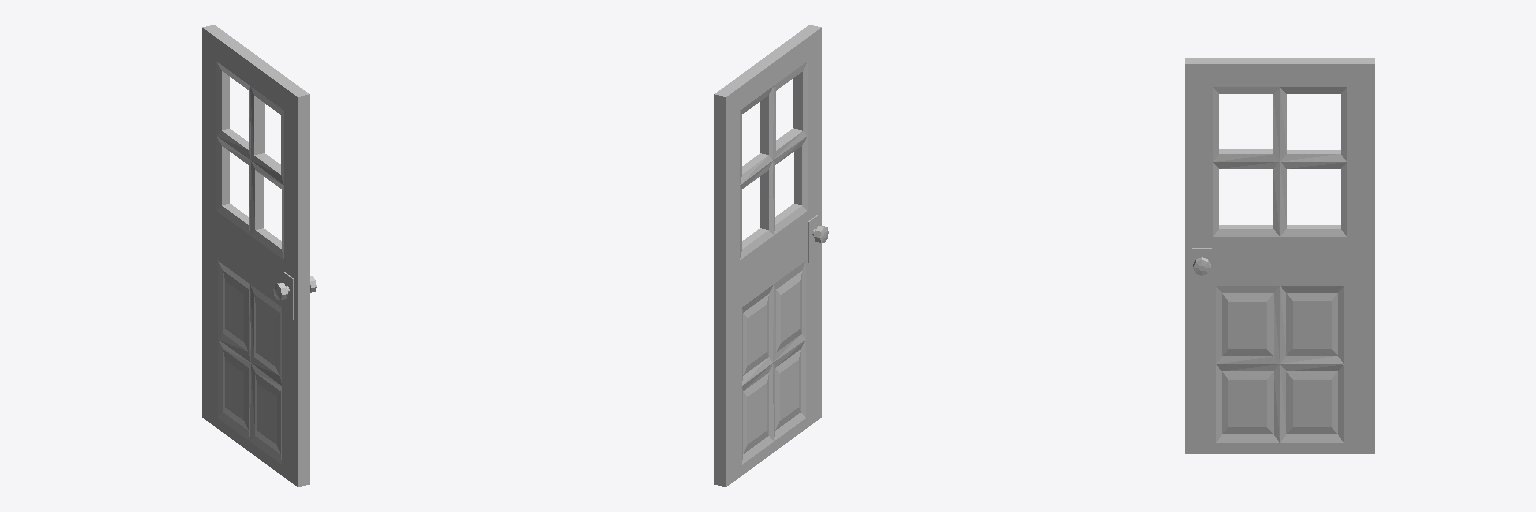
The model's file is Door.obj.
3 views of the same model, side by side, from view 1: azimuth 30°, elevation 25°; view 2: azimuth 150°, elevation 25°; view 3: azimuth 270°, elevation 25° (orthographic).
Parts seen in each view (by area): view 1: door_Cube.030; view 2: door_Cube.030; view 3: door_Cube.030.
Part boxes in pixels (x1,y1,x2,y2): door_Cube.030: (202, 25, 316, 486); door_Cube.030: (714, 25, 828, 486); door_Cube.030: (1185, 58, 1374, 453).
Bounding box in the file's own units: 0.9703 × 9.96 × 4.42.